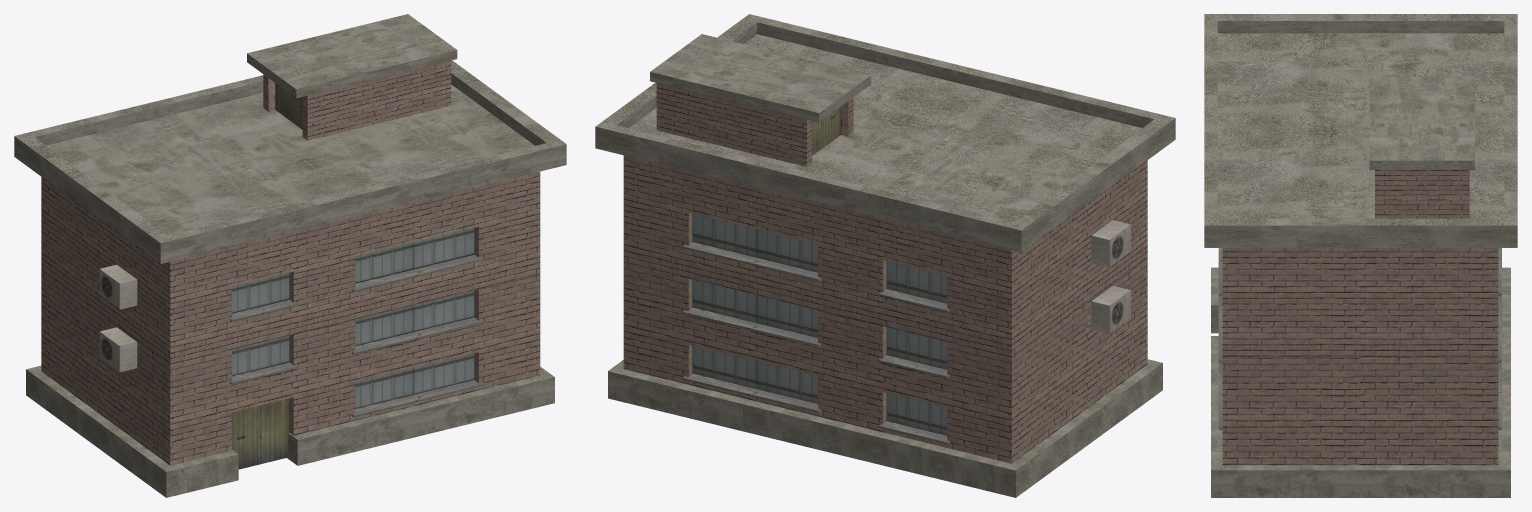
The model's file is Building03B2.fbx.
The picture shows the model from 3 angles, left to right: view 1: azimuth 30°, elevation 25°; view 2: azimuth 150°, elevation 25°; view 3: azimuth 270°, elevation 25°; orthographic projection. The views are drawn at different scales.
Visible parts, largest first — view 1: UB; view 2: UB; view 3: UB.
Boxes of the visible parts, x1=… form: UB: x1=14, y1=14, x2=566, y2=497; UB: x1=595, y1=14, x2=1175, y2=497; UB: x1=1204, y1=14, x2=1517, y2=497.
Bounding box in the file's own units: 10.59 × 7.59 × 6.62.
